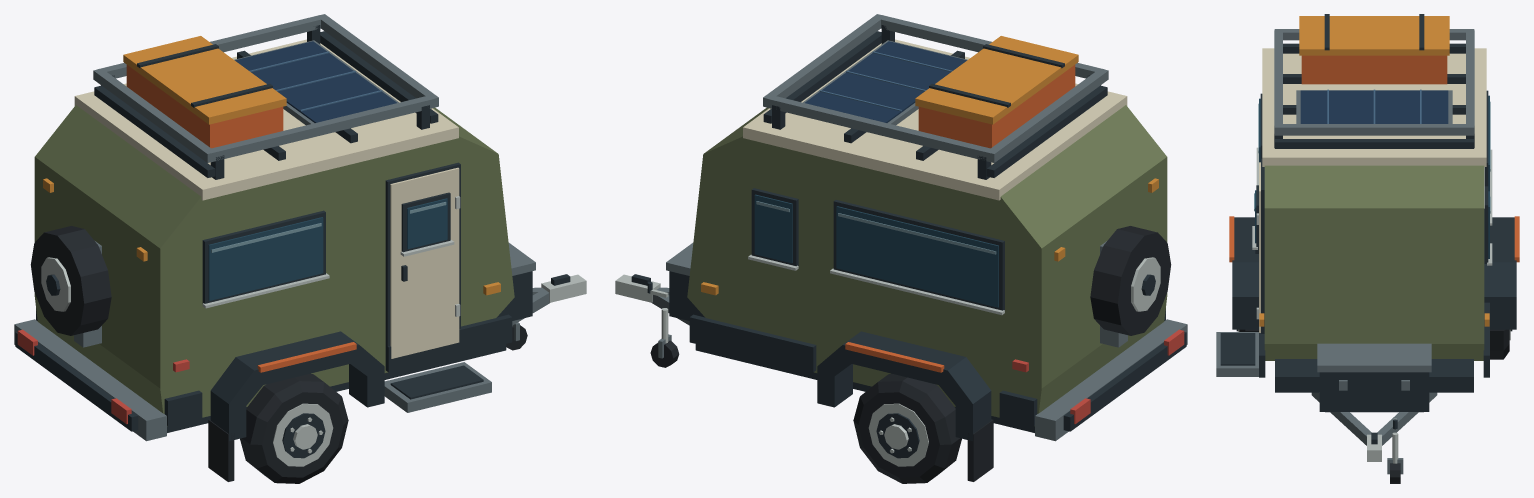
Rendered from 03_summit_offroad.glb.
The picture shows the model from 3 angles, left to right: view 1: azimuth 30°, elevation 25°; view 2: azimuth 150°, elevation 25°; view 3: azimuth 270°, elevation 25°; orthographic projection. The views are drawn at different scales.
Parts seen in each view (by area): view 1: faceted_olive_body, ivory_roof_cap, entry_door_panel, entry_angular_fender, recovery_case_lid, solar_module, entry_sleeping_window_glass, entry_wheel_tire, rear_spare_tire, recovery_case, rear_bumper, rack_long_rail_0.83 (+23 smaller); view 2: faceted_olive_body, ivory_roof_cap, far_sleeping_window_glass, far_angular_fender, recovery_case_lid, solar_module, far_wheel_tire, rear_spare_tire, recovery_case, far_front_rock_guard, rear_bumper, rack_long_rail_-0.83 (+20 smaller); view 3: faceted_olive_body, ivory_roof_cap, recovery_case_lid, solar_module, recovery_case, front_tongue_storage, front_storage_lid, far_angular_fender, raised_chassis, entry_angular_fender, rack_front_rail, rack_crossbar_0.85 (+15 smaller).
Part boxes in pixels (x1,y1,x2,y2): faceted_olive_body: (34, 105, 514, 426); ivory_roof_cap: (74, 39, 458, 200); entry_door_panel: (390, 167, 459, 358); entry_angular_fender: (210, 331, 384, 441); recovery_case_lid: (123, 36, 286, 124); solar_module: (235, 41, 396, 122); entry_sleeping_window_glass: (208, 217, 323, 300); entry_wheel_tire: (240, 373, 348, 483); rear_spare_tire: (30, 226, 111, 335); recovery_case: (126, 65, 283, 148); rear_bumper: (14, 319, 166, 441); rack_long_rail_0.83: (207, 95, 434, 162); faceted_olive_body: (687, 105, 1167, 426); ivory_roof_cap: (743, 39, 1127, 200); far_sleeping_window_glass: (836, 206, 998, 307); far_angular_fender: (817, 331, 991, 441); recovery_case_lid: (915, 36, 1078, 124); solar_module: (805, 41, 966, 122); far_wheel_tire: (853, 373, 961, 483); rear_spare_tire: (1090, 226, 1171, 335); recovery_case: (918, 65, 1075, 148); far_front_rock_guard: (689, 314, 816, 372); rear_bumper: (1035, 319, 1187, 441); rack_long_rail_-0.83: (767, 95, 994, 162); faceted_olive_body: (1264, 165, 1484, 360); ivory_roof_cap: (1262, 48, 1486, 166); recovery_case_lid: (1299, 16, 1449, 55); solar_module: (1300, 90, 1448, 123); recovery_case: (1301, 55, 1447, 84); front_tongue_storage: (1319, 372, 1429, 411); front_storage_lid: (1317, 343, 1431, 372); far_angular_fender: (1484, 217, 1516, 329); raised_chassis: (1275, 359, 1473, 392); entry_angular_fender: (1232, 217, 1258, 329); rack_front_rail: (1274, 124, 1474, 135); rack_crossbar_0.85: (1275, 139, 1473, 148).
Bounding box in the file's own units: 4.64 × 3.01 × 2.63.
